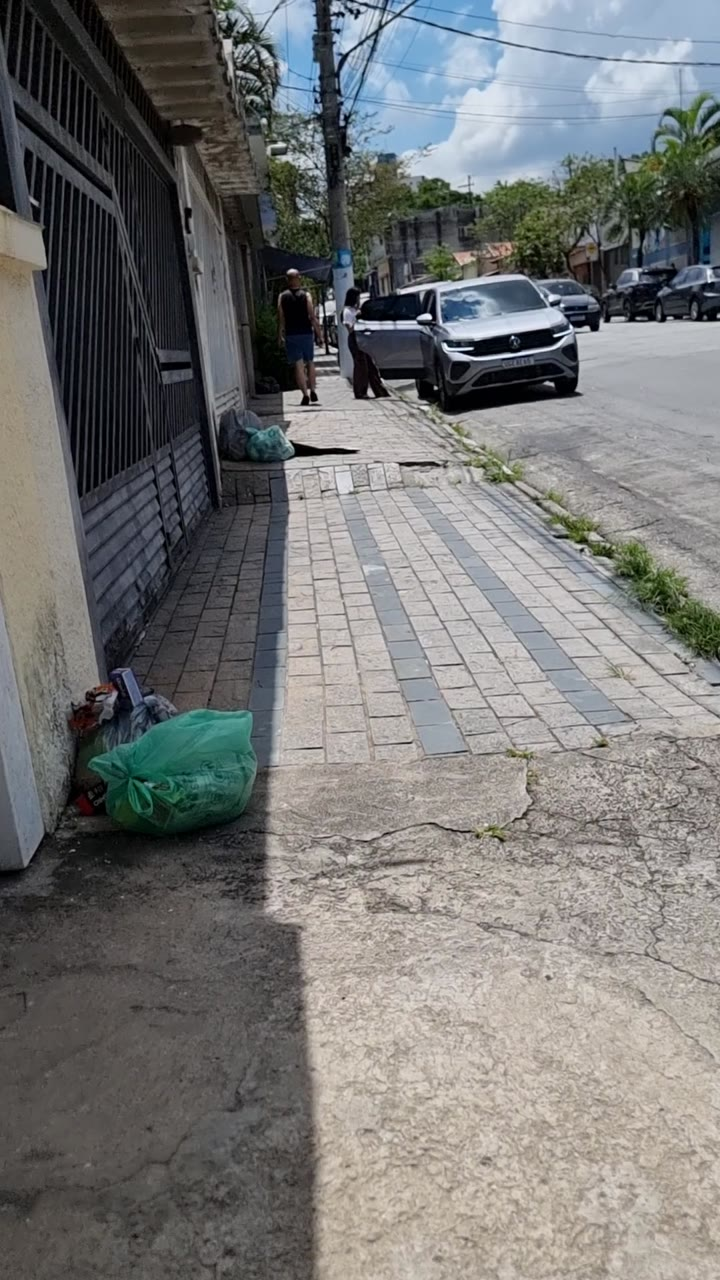obstaculo: (89, 710, 257, 834), (219, 409, 262, 461)
